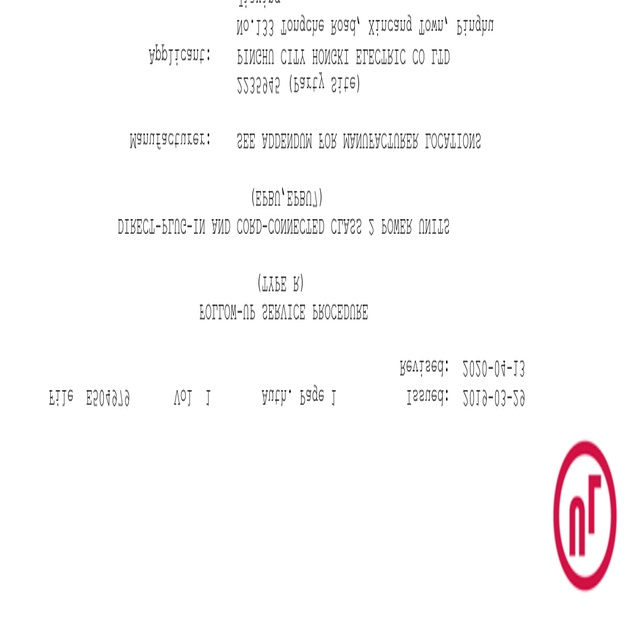ul: (553, 438, 618, 593)
